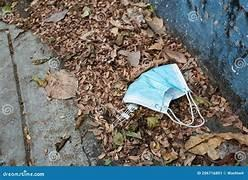Mask: (123, 64, 204, 126)
